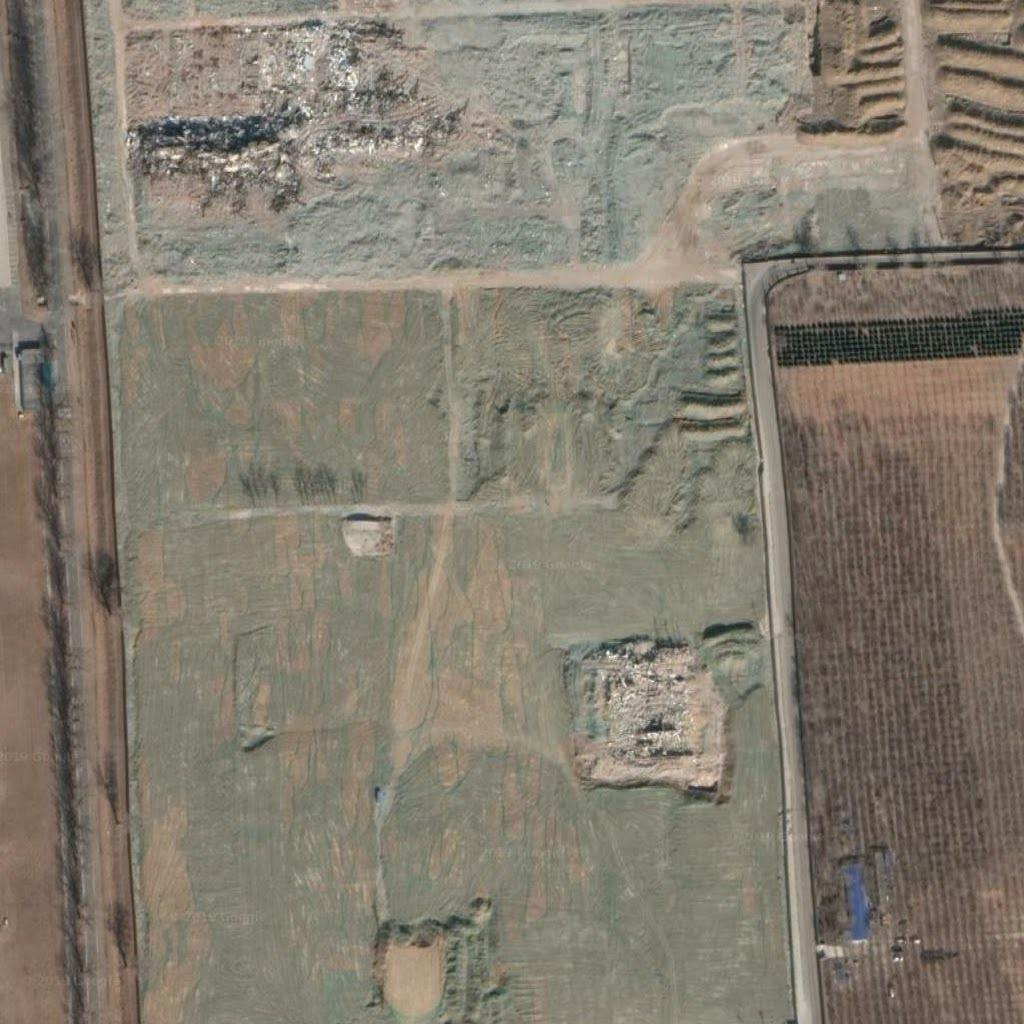agriculture forestry: (132, 21, 451, 177)
construction waste: (571, 641, 719, 785)
